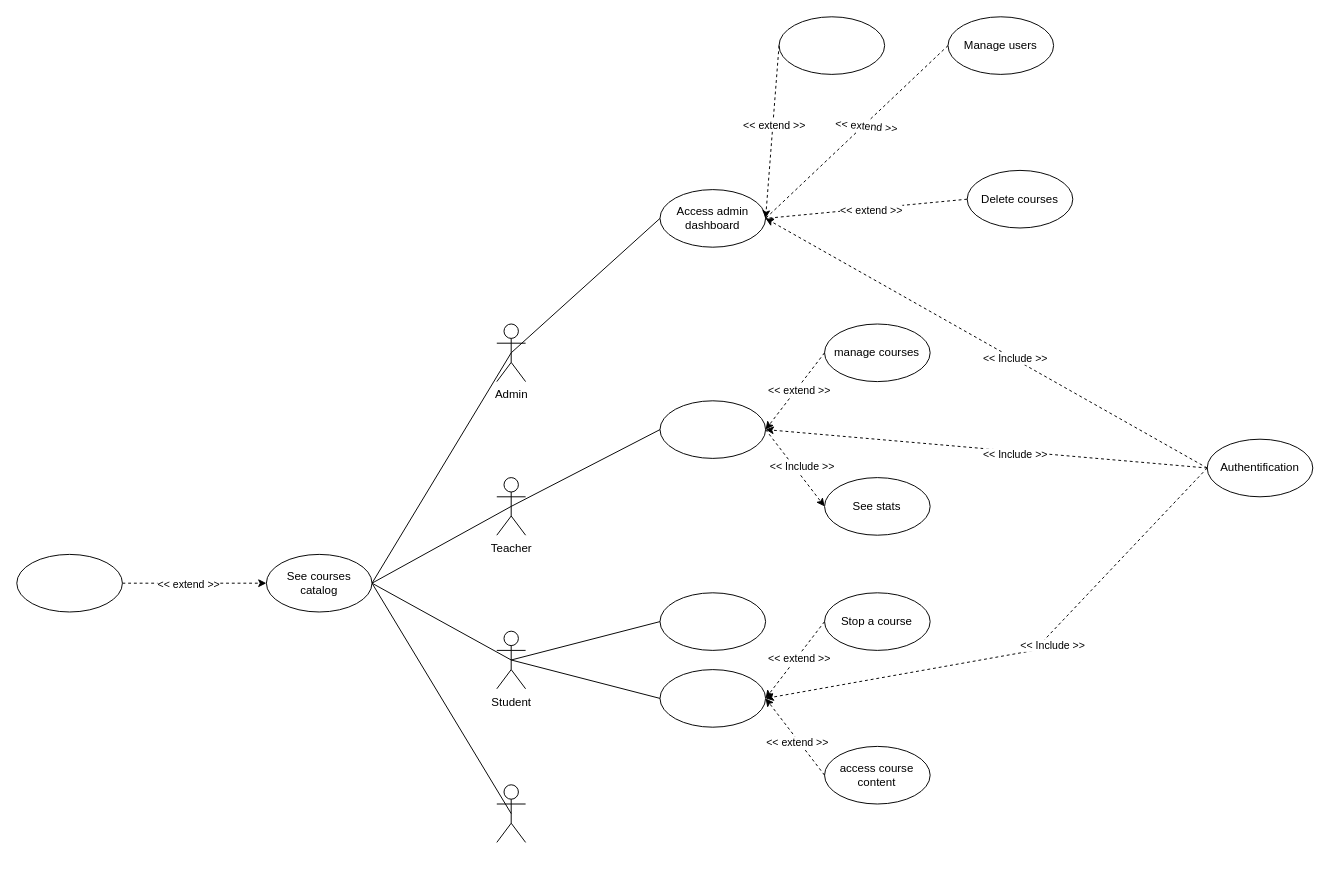
The diagram is 1330 pixels wide and 879 high, and some of its shapes have lost their labels. The centre of each missing label's shape, as x and y in pixels:
Access library: point 712,698
Access teacher dashboard: point 712,429
manage tags & categories: point 831,45
Search fo a course: point 69,582
Start a course: point 712,621
Visitor: point 511,813
